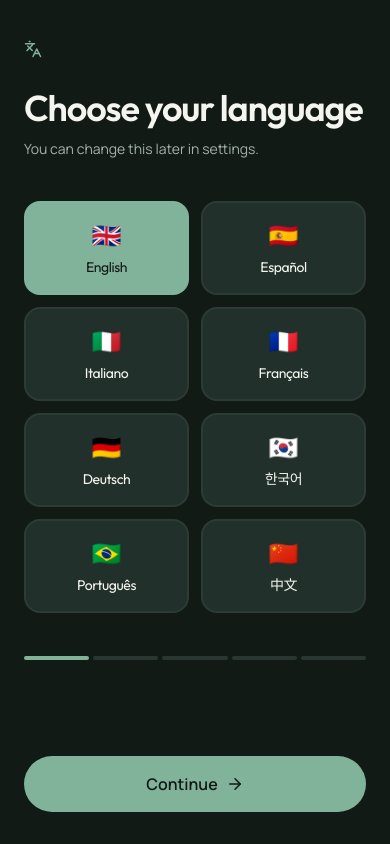
Test case: OnboardingDialog authentication step › keeps Google as an unchanged account option for unauthenticated onboarding
The width and height of the screenshot is (390, 844).
Later steps or results of the test are not shown.
Click the button "Continue": (195, 784) [24,756,366,812]
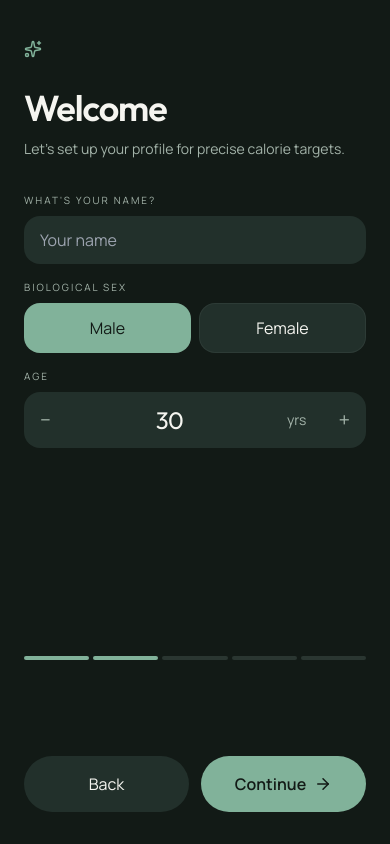
Click the button "Continue": (284, 784) [201,756,366,812]
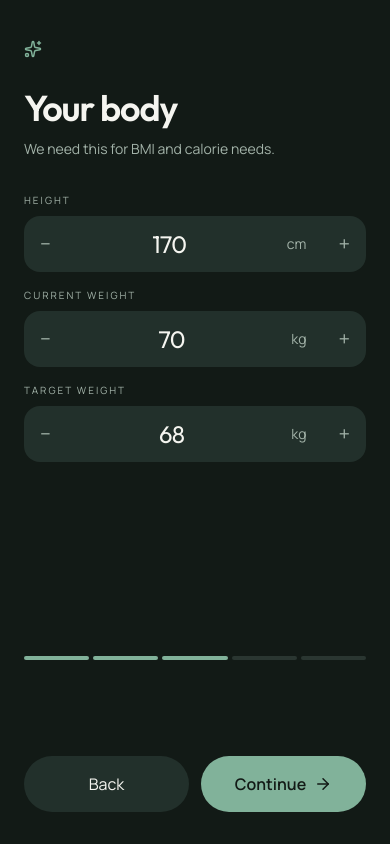
Click the button "Continue": (284, 784) [201,756,366,812]
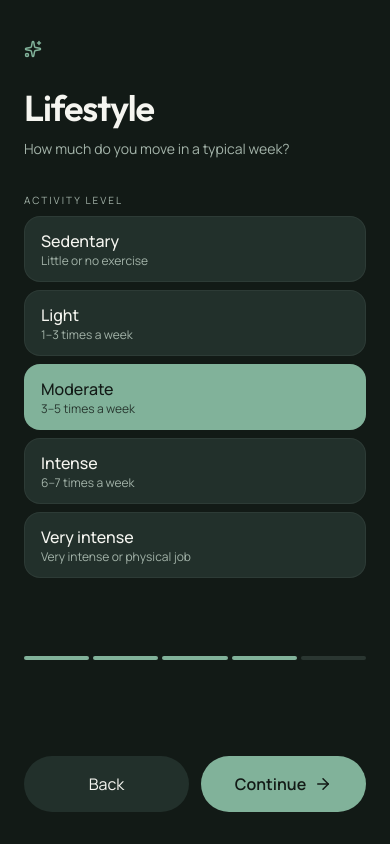
Click the button "Continue": (284, 784) [201,756,366,812]
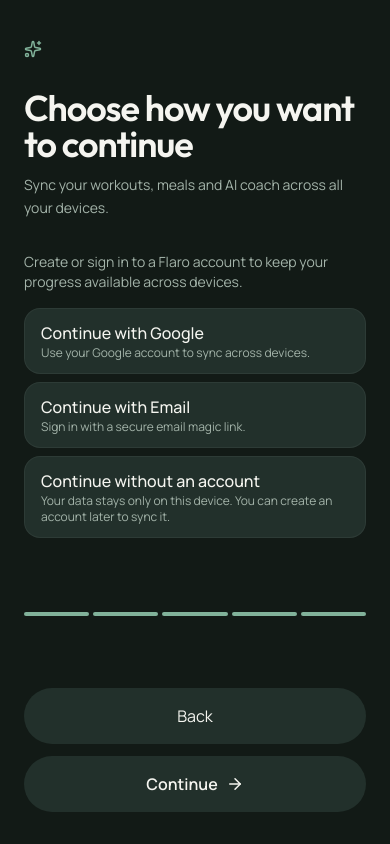
Check: the text "Flaro account" is shown, box [24,252,328,290]
Check: the button with test id "onb-google" is shown, box [24,308,366,374]
